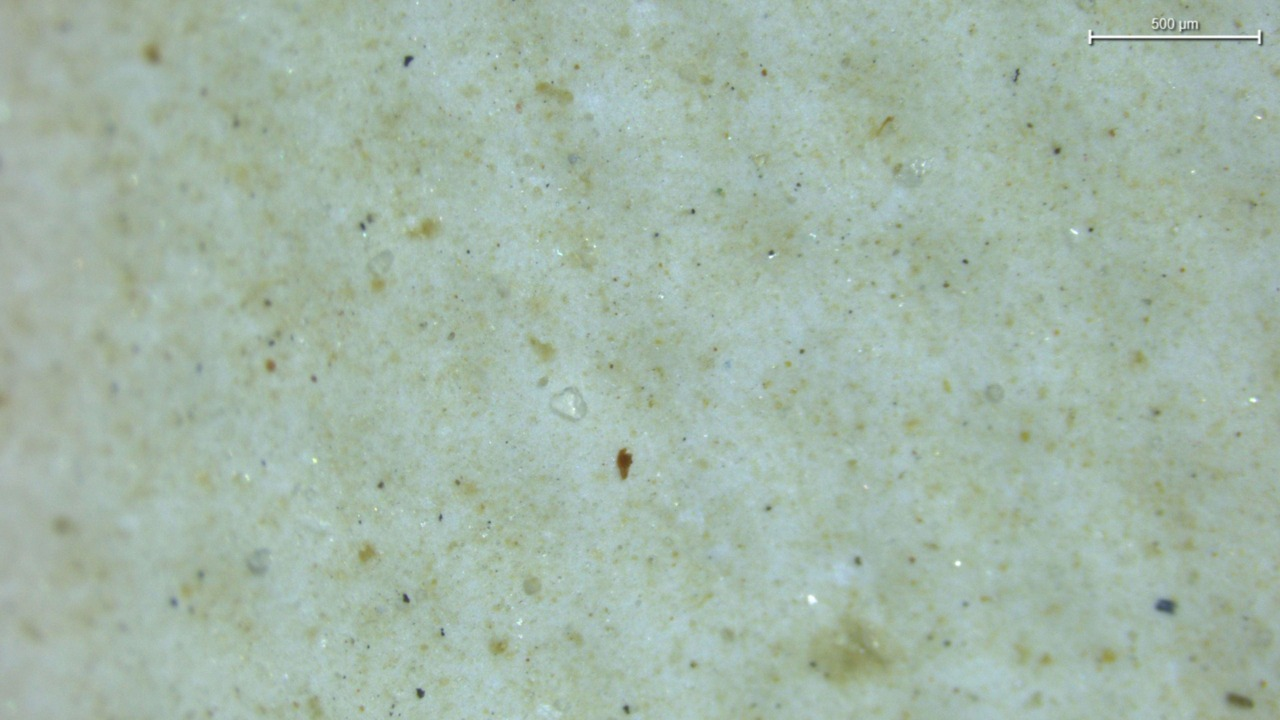microplastic_fragment: (549, 387, 587, 420)
